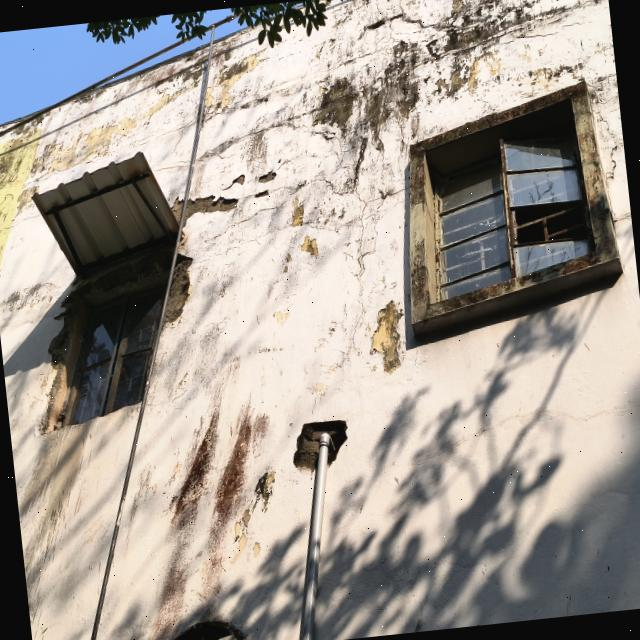Broken window pane: (425, 100, 599, 286)
Corrosion stain: (409, 80, 618, 325), (144, 381, 287, 640)
Crack: (206, 121, 419, 359), (595, 97, 621, 173)
Paint Peeling: (0, 78, 204, 279)
Scaling: (19, 154, 284, 440)
pollution -moisture induced blackening: (0, 0, 549, 268), (314, 0, 584, 169)
